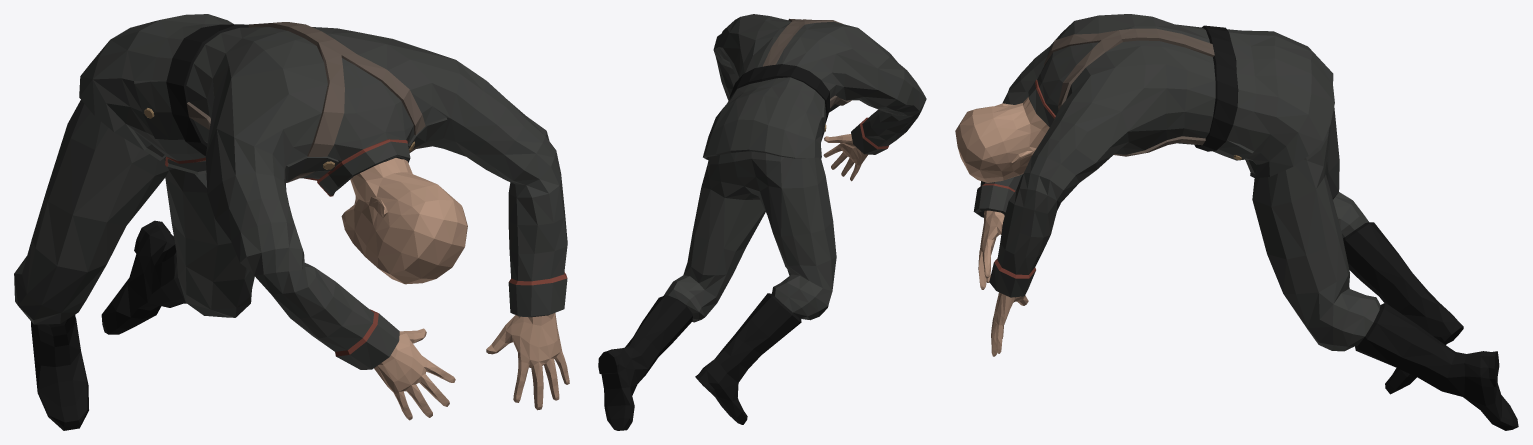
The model's file is Cha_Soldier_Ger_Dead_04.fbx.
3 views of the same model, side by side, from view 1: azimuth 30°, elevation 25°; view 2: azimuth 150°, elevation 25°; view 3: azimuth 270°, elevation 25° (orthographic). The views are drawn at different scales.
Parts seen in each view (by area): view 1: Cha_Soldier_Ger_Dead_04_LOD0; view 2: Cha_Soldier_Ger_Dead_04_LOD0; view 3: Cha_Soldier_Ger_Dead_04_LOD0.
Part boxes in pixels (x1,y1,x2,y2): Cha_Soldier_Ger_Dead_04_LOD0: [14, 14, 569, 430]; Cha_Soldier_Ger_Dead_04_LOD0: [598, 14, 926, 430]; Cha_Soldier_Ger_Dead_04_LOD0: [955, 14, 1518, 430].
Size of what is drawn, in the model's own units: 80.78 by 108 by 140.
